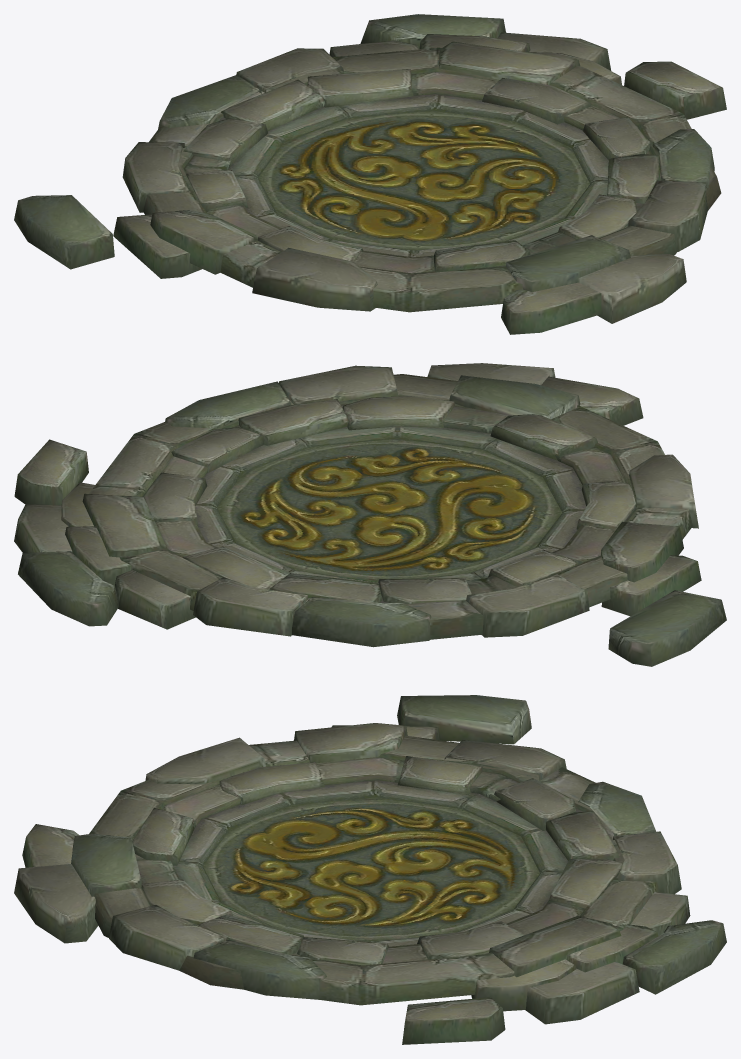
File: gy_thing_ditianzhuan.FBX
3 views of the same model, one above another, from view 1: azimuth 30°, elevation 25°; view 2: azimuth 150°, elevation 25°; view 3: azimuth 270°, elevation 25° (orthographic). The views are drawn at different scales.
Visible parts, largest first — view 1: gy_thing_ditianzhuan; view 2: gy_thing_ditianzhuan; view 3: gy_thing_ditianzhuan.
Part boxes in pixels (<box>): gy_thing_ditianzhuan: <box>14,14,726,334</box>; gy_thing_ditianzhuan: <box>14,363,726,666</box>; gy_thing_ditianzhuan: <box>14,695,726,1044</box>.
Size of the model in its own units: 400 by 21.58 by 367.
